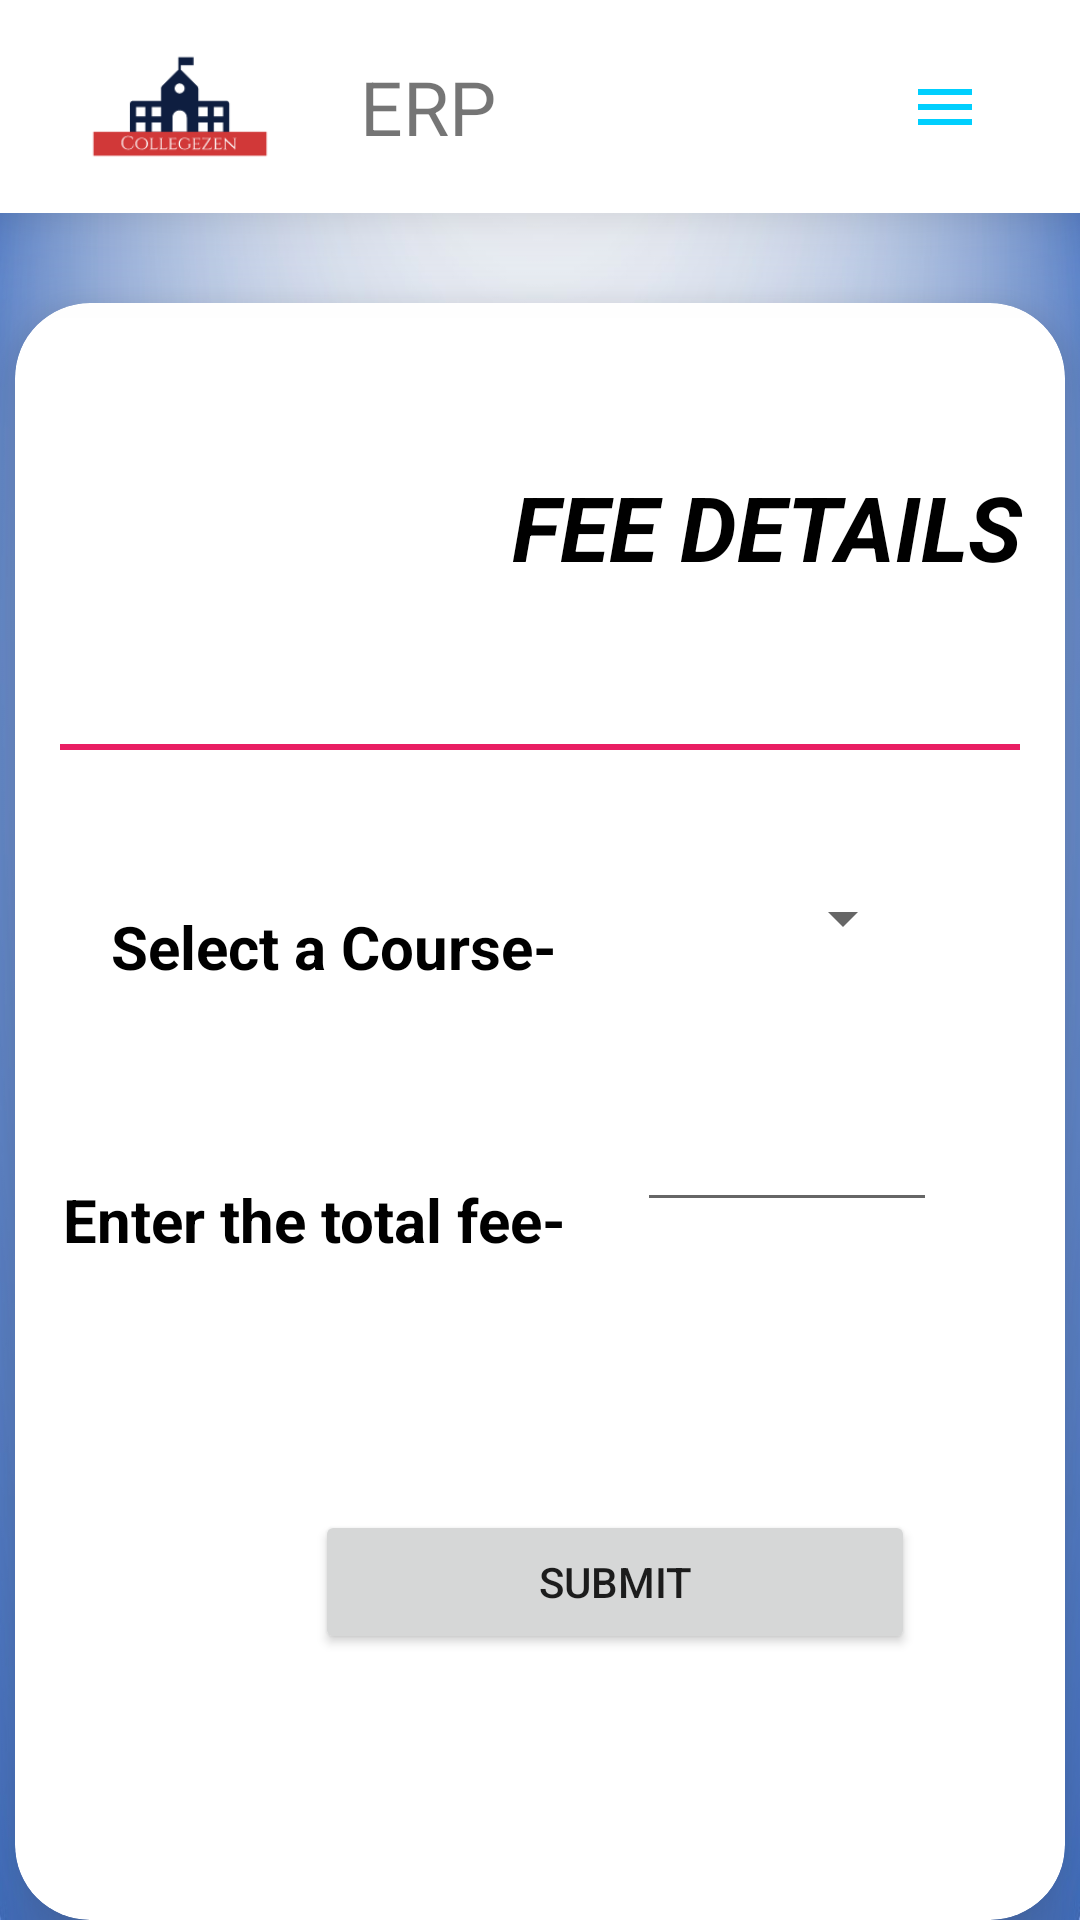

Icon click points for this 1080 × 1920 phone screenshot, format point (x, y):
menu: point (945, 107)
